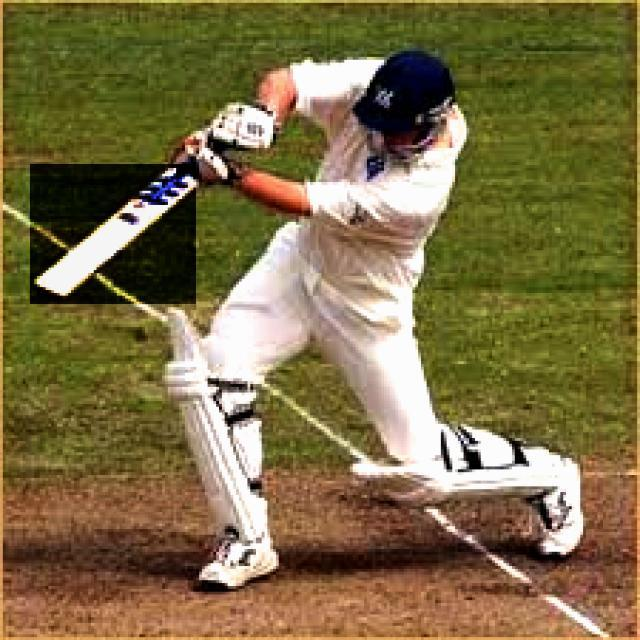bat: (33, 163, 199, 302)
toe: (33, 278, 71, 300)
